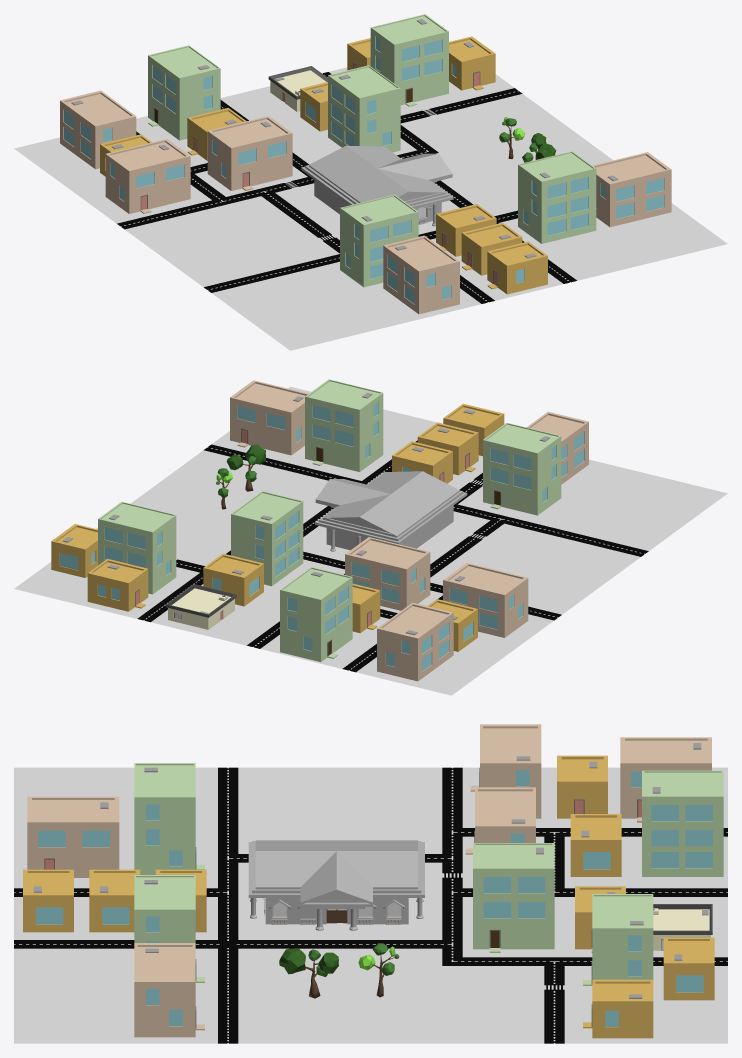
The model's file is City Map v1.fbx.
3 renders of one model, top to bottom at view 1: azimuth 30°, elevation 25°; view 2: azimuth 150°, elevation 25°; view 3: azimuth 270°, elevation 25°, orthographic. The views are drawn at different scales.
Visible parts, largest first — view 1: Road, Museum Rooftop, 3-Floor House 4, 3-Floor House 2, 3-Floor House 3, 2-Floor House, 2-Floor House 2, 3-Floor House, 3-Floor House 1, 2-Floor House 4, 2-Floor House 3, 2-Floor House 1 (+10 smaller); view 2: Road, Museum Rooftop, 3-Floor House 4, 3-Floor House 1, 3-Floor House, 3-Floor House 3, 3-Floor House 2, 2-Floor House 1, 2-Floor House 3, 2-Floor House, 2-Floor House 2, 1-Floor House 2 (+11 smaller); view 3: Road, Museum Rooftop, 3-Floor House 3, 3-Floor House, 2-Floor House 4, 3-Floor House 1, 2-Floor House 3, 3-Floor House 2, 3-Floor House 4, 2-Floor House 2, 2-Floor House 1, 1-Floor House 1 (+11 smaller).
Boxes of the visible parts, box(x1,y1,x2,y2) form: Road: box(14, 67, 727, 350); Museum Rooftop: box(301, 145, 453, 208); 3-Floor House 4: box(518, 151, 596, 243); 3-Floor House 2: box(370, 14, 448, 106); 3-Floor House 3: box(328, 65, 400, 152); 2-Floor House: box(207, 116, 292, 190); 2-Floor House 2: box(105, 139, 190, 213); 3-Floor House: box(148, 45, 220, 140); 3-Floor House 1: box(340, 194, 418, 287); 2-Floor House 4: box(383, 235, 459, 314); 2-Floor House 3: box(592, 152, 671, 227); 2-Floor House 1: box(60, 90, 136, 169); Road: box(14, 386, 727, 695); Museum Rooftop: box(315, 471, 467, 544); 3-Floor House 4: box(305, 379, 383, 471); 3-Floor House 1: box(483, 422, 561, 515); 3-Floor House: box(280, 567, 352, 661); 3-Floor House 3: box(231, 491, 303, 586); 3-Floor House 2: box(98, 501, 176, 594); 2-Floor House 1: box(377, 602, 453, 681); 2-Floor House 3: box(230, 380, 308, 455); 2-Floor House: box(345, 537, 430, 610); 2-Floor House 2: box(443, 563, 528, 637); 1-Floor House 2: box(87, 559, 148, 611); Road: box(14, 767, 727, 1043); Museum Rooftop: box(248, 840, 424, 908); 3-Floor House 3: box(473, 843, 554, 952); 3-Floor House: box(642, 770, 723, 876); 2-Floor House 4: box(27, 796, 119, 877); 3-Floor House 1: box(134, 763, 204, 874); 2-Floor House 3: box(134, 943, 204, 1037); 3-Floor House 2: box(583, 894, 653, 985); 3-Floor House 4: box(134, 875, 204, 982); 2-Floor House 2: box(470, 724, 541, 818); 2-Floor House 1: box(620, 737, 711, 822); 1-Floor House 1: box(583, 979, 653, 1038).
Size of the model in its own units: 6400 by 1025 by 7000.
